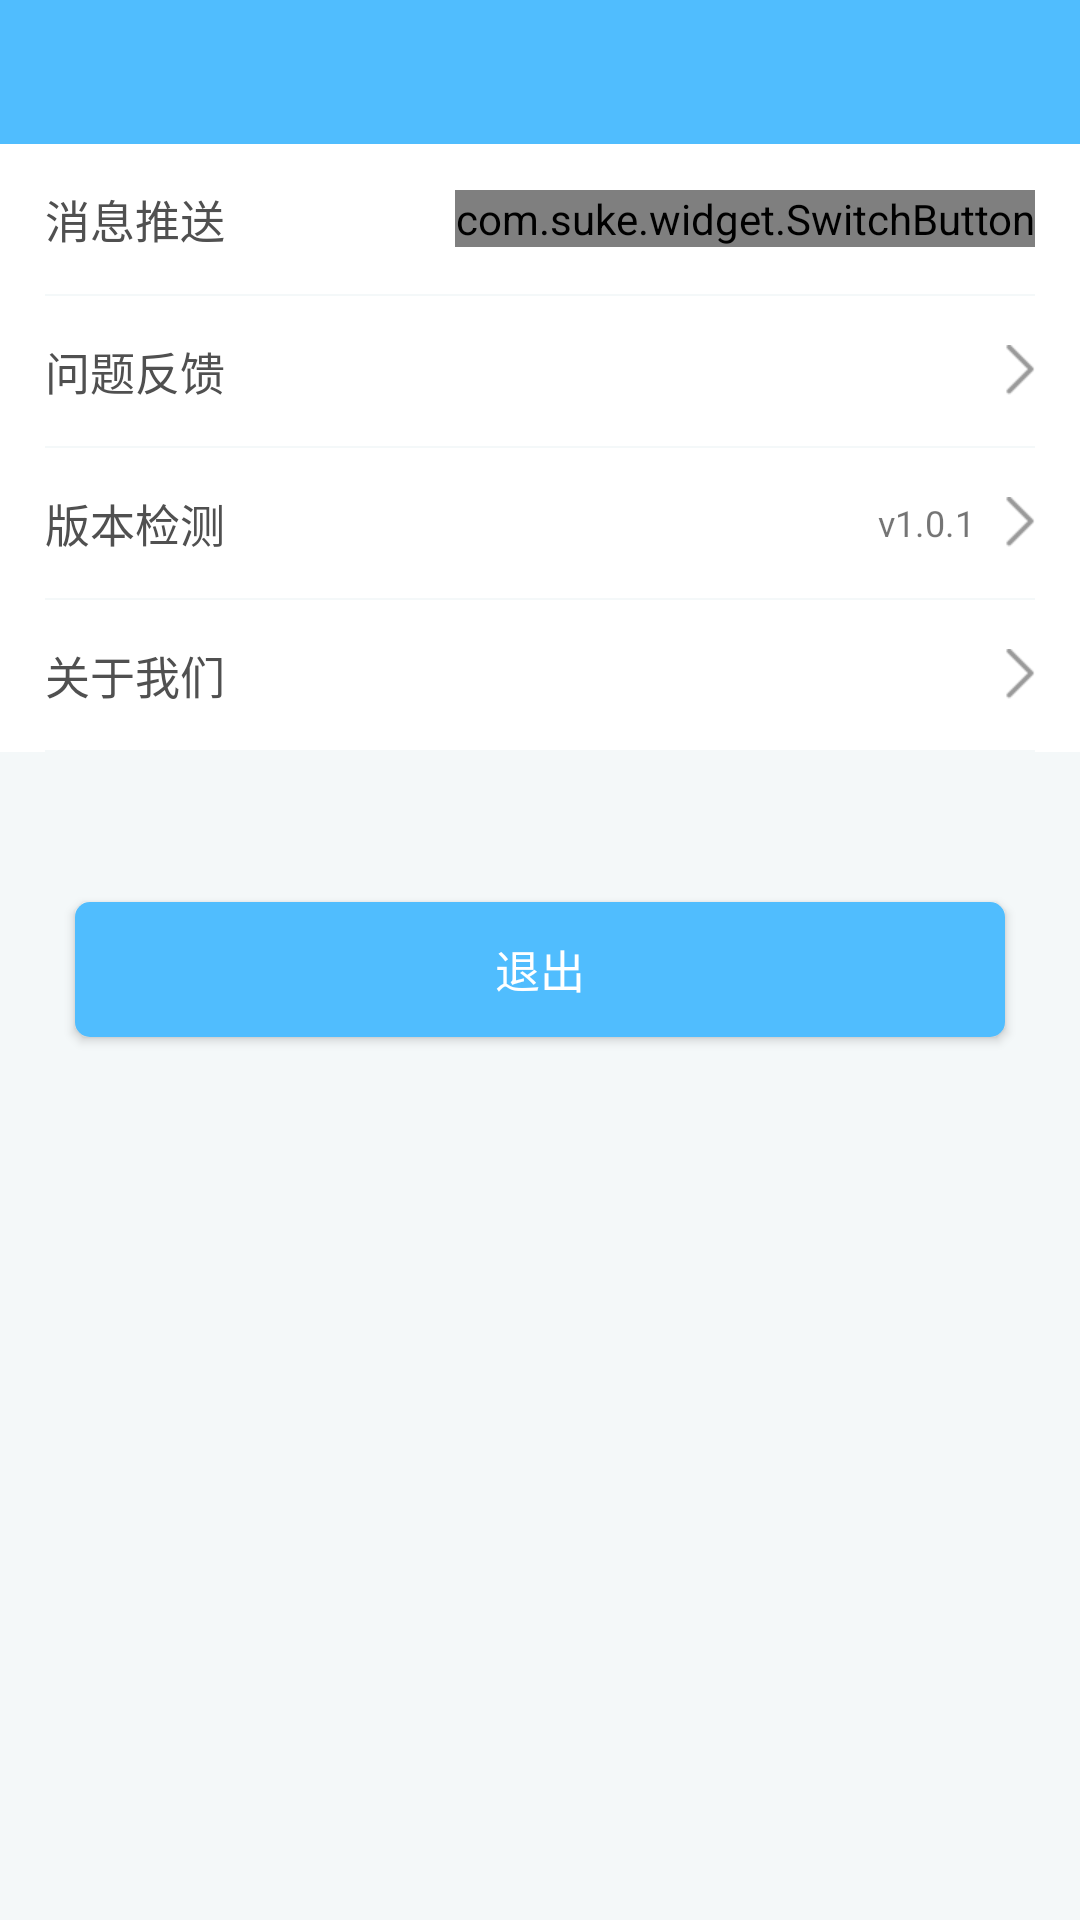

Where to tap for icons on this 1080px x 1920px app screen, as (x,y):
right: (1020,369), (1020,521), (1020,673)
